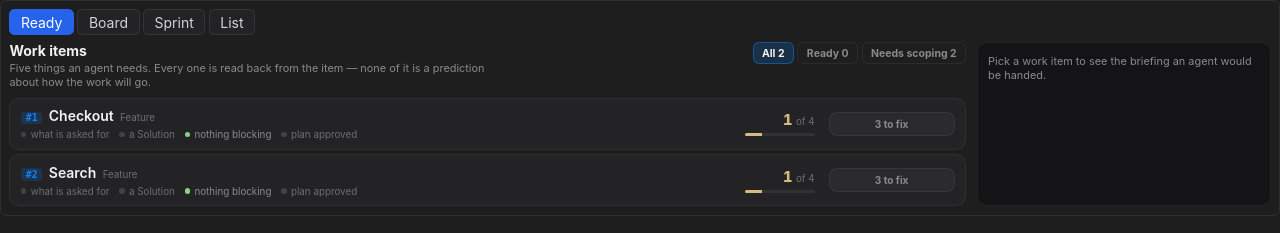
WorkItemViews › switches to Board view with status columns
This screenshot has width=1280, height=233.
Click the tab "Board" at (108, 22), box [77,9,140,35]
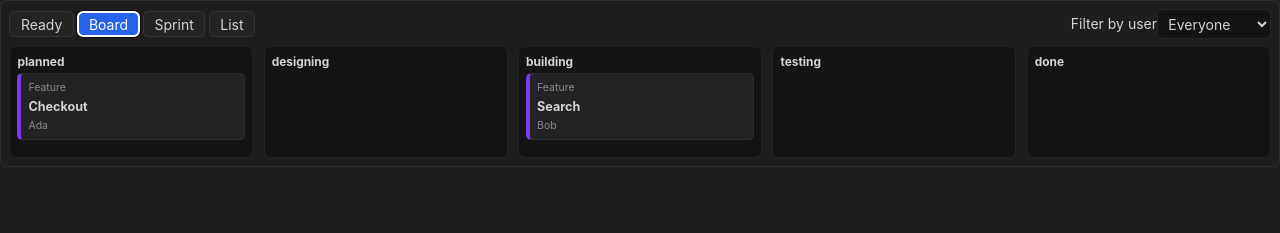
Expected: the element "planned" shows "Checkout", [28,81,237,132]
Expected: the element "building" shows "Search", [537,81,746,132]
